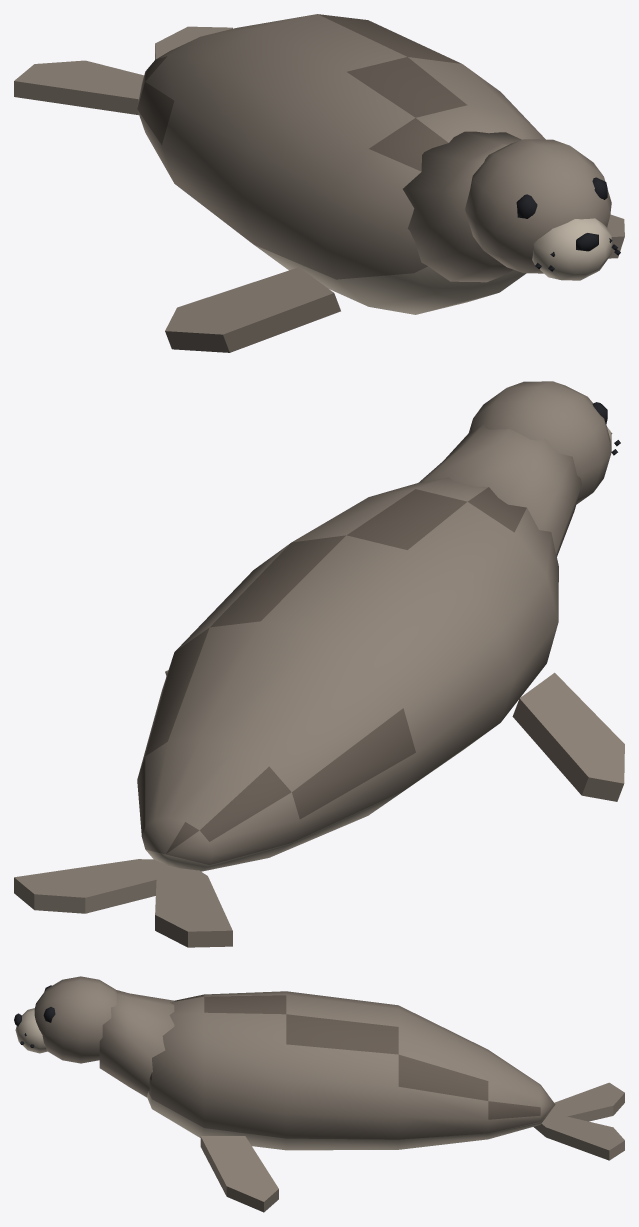
The model's file is seal.glb.
3 renders of one model, top to bottom at view 1: azimuth 30°, elevation 25°; view 2: azimuth 150°, elevation 25°; view 3: azimuth 270°, elevation 25°, orthographic. The views are drawn at different scales.
Parts seen in each view (by area): view 1: Seal_Body, Seal_Head, Seal_FlipperR, Seal_Tail, Seal_FlipperL; view 2: Seal_Body, Seal_Head, Seal_Tail, Seal_FlipperR; view 3: Seal_Body, Seal_Head, Seal_Tail, Seal_FlipperL.
Boxes of the visible parts, left/top/right/bottom form: Seal_Body: left=137, top=14, right=545, bottom=314; Seal_Head: left=403, top=131, right=620, bottom=282; Seal_FlipperR: left=165, top=267, right=340, bottom=352; Seal_Tail: left=14, top=26, right=232, bottom=115; Seal_FlipperL: left=607, top=214, right=624, bottom=258; Seal_Body: left=137, top=477, right=558, bottom=871; Seal_Head: left=418, top=381, right=620, bottom=556; Seal_Tail: left=14, top=859, right=232, bottom=947; Seal_FlipperR: left=512, top=672, right=624, bottom=801; Seal_Body: left=147, top=991, right=555, bottom=1150; Seal_Head: left=14, top=976, right=174, bottom=1097; Seal_Tail: left=533, top=1082, right=624, bottom=1160; Seal_FlipperL: left=200, top=1136, right=278, bottom=1212.
Size of the model in its own units: 0.9035 by 0.4793 by 1.63.
